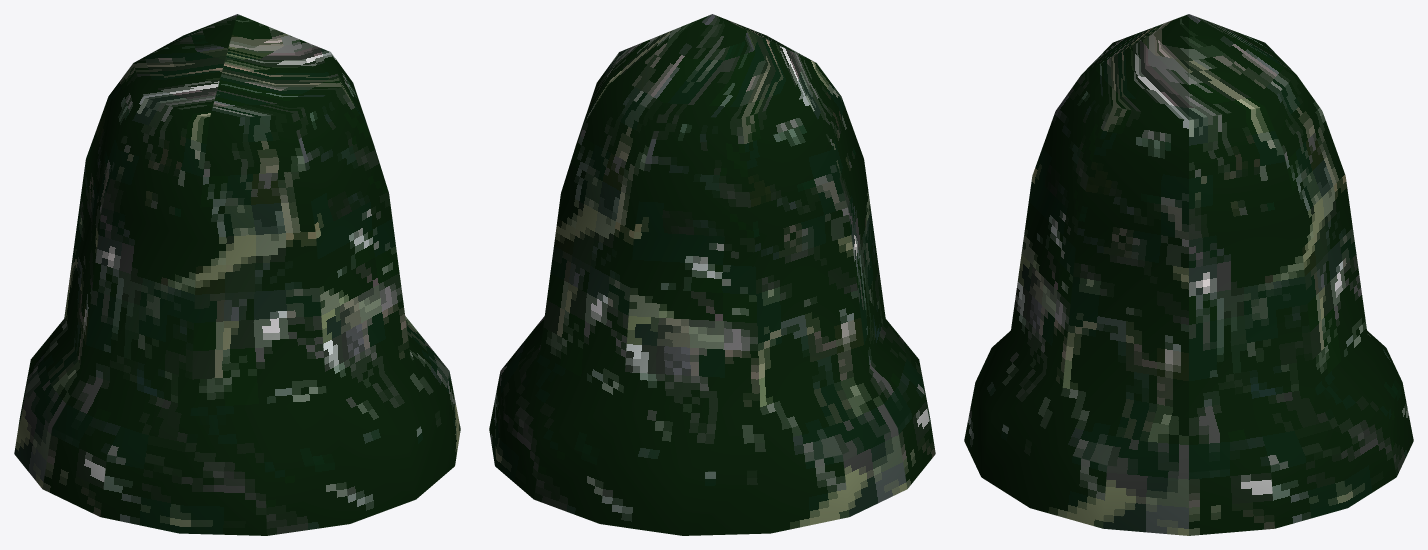
The model's file is bell.FBX.
3 views of the same model, side by side, from view 1: azimuth 30°, elevation 25°; view 2: azimuth 150°, elevation 25°; view 3: azimuth 270°, elevation 25° (orthographic).
Visible parts, largest first — view 1: n0b0; view 2: n0b0; view 3: n0b0.
Part boxes in pixels (box(x1,y1,x2,y2)): n0b0: box(14, 14, 460, 535); n0b0: box(489, 14, 935, 535); n0b0: box(964, 14, 1413, 535).
Bounding box in the file's own units: 136 × 142 × 136.
